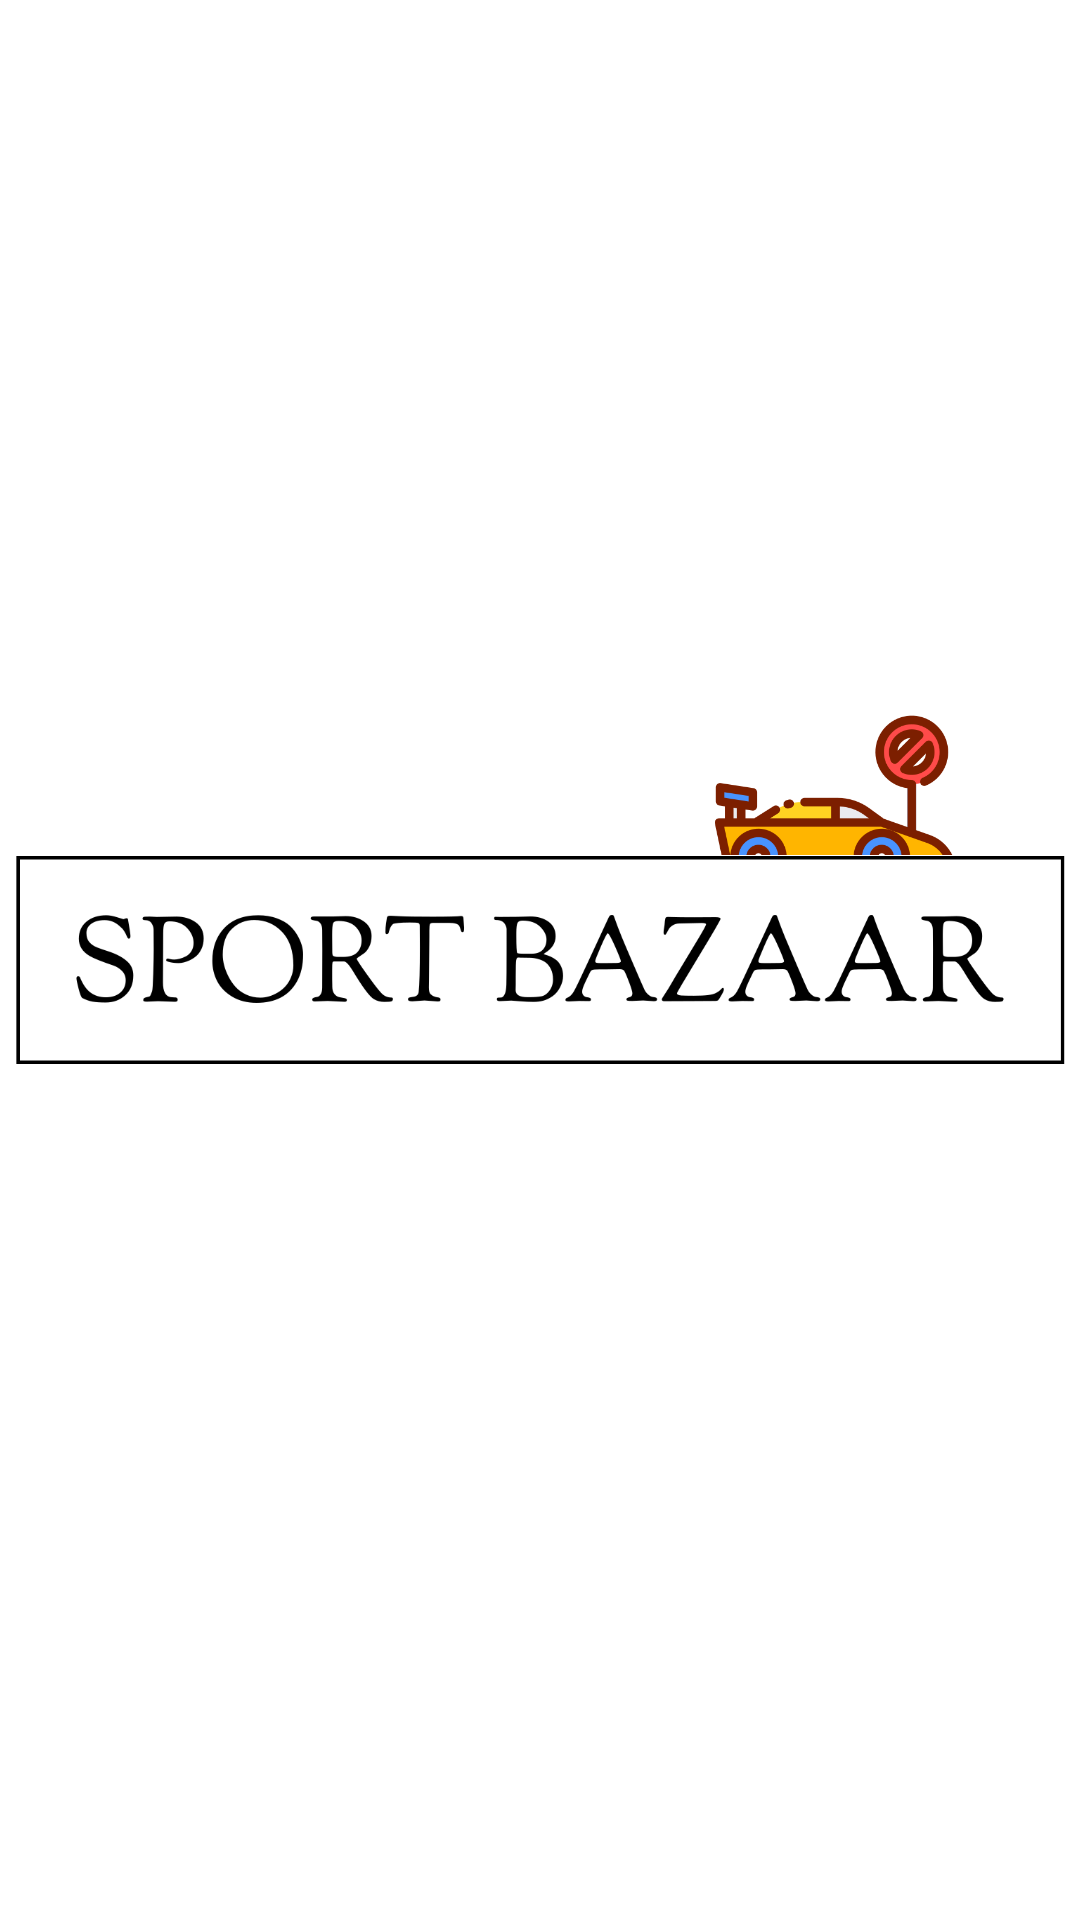

Point at icon controls on the screen. Image size 1080*1920, points as (x,y).
sportcar: (833,785)
